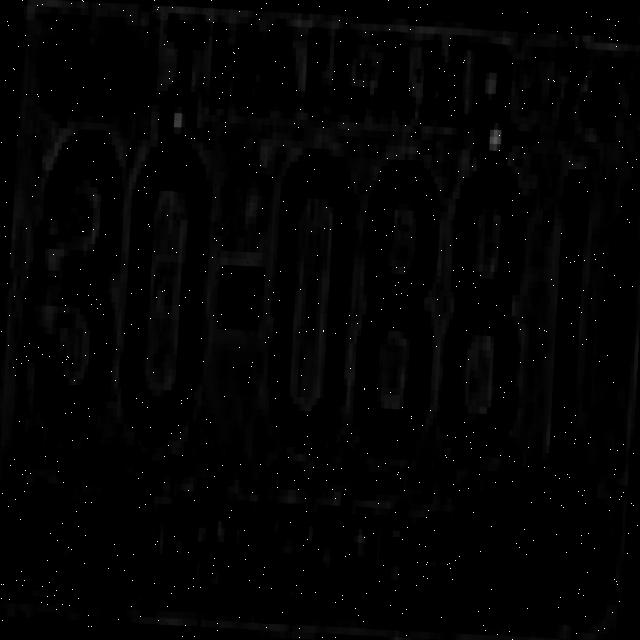0: (120, 129, 208, 438), (264, 147, 356, 442)
1: (549, 169, 587, 461), (547, 176, 585, 462)
3: (31, 128, 122, 430)
8: (352, 152, 439, 446), (439, 160, 523, 454)
SamutSakhon: (147, 474, 466, 612)
